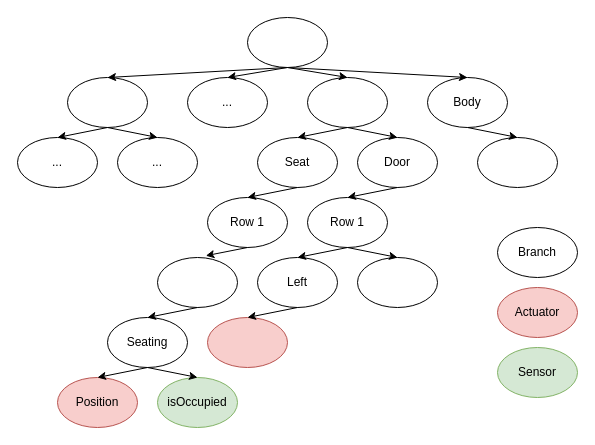
Image size: 595x445. Some labels were removed from this diagram. The centre of each missing label's shape, as x and y in pixels:
"Cabin" belongs at [347,102].
"isOpen" belongs at [247,342].
"Lights" belongs at [517,162].
"OBD" belongs at [107,102].
"Pos 1" belongs at [197,282].
"Right" belongs at [397,282].
"Vehicle" belongs at [287,42].
